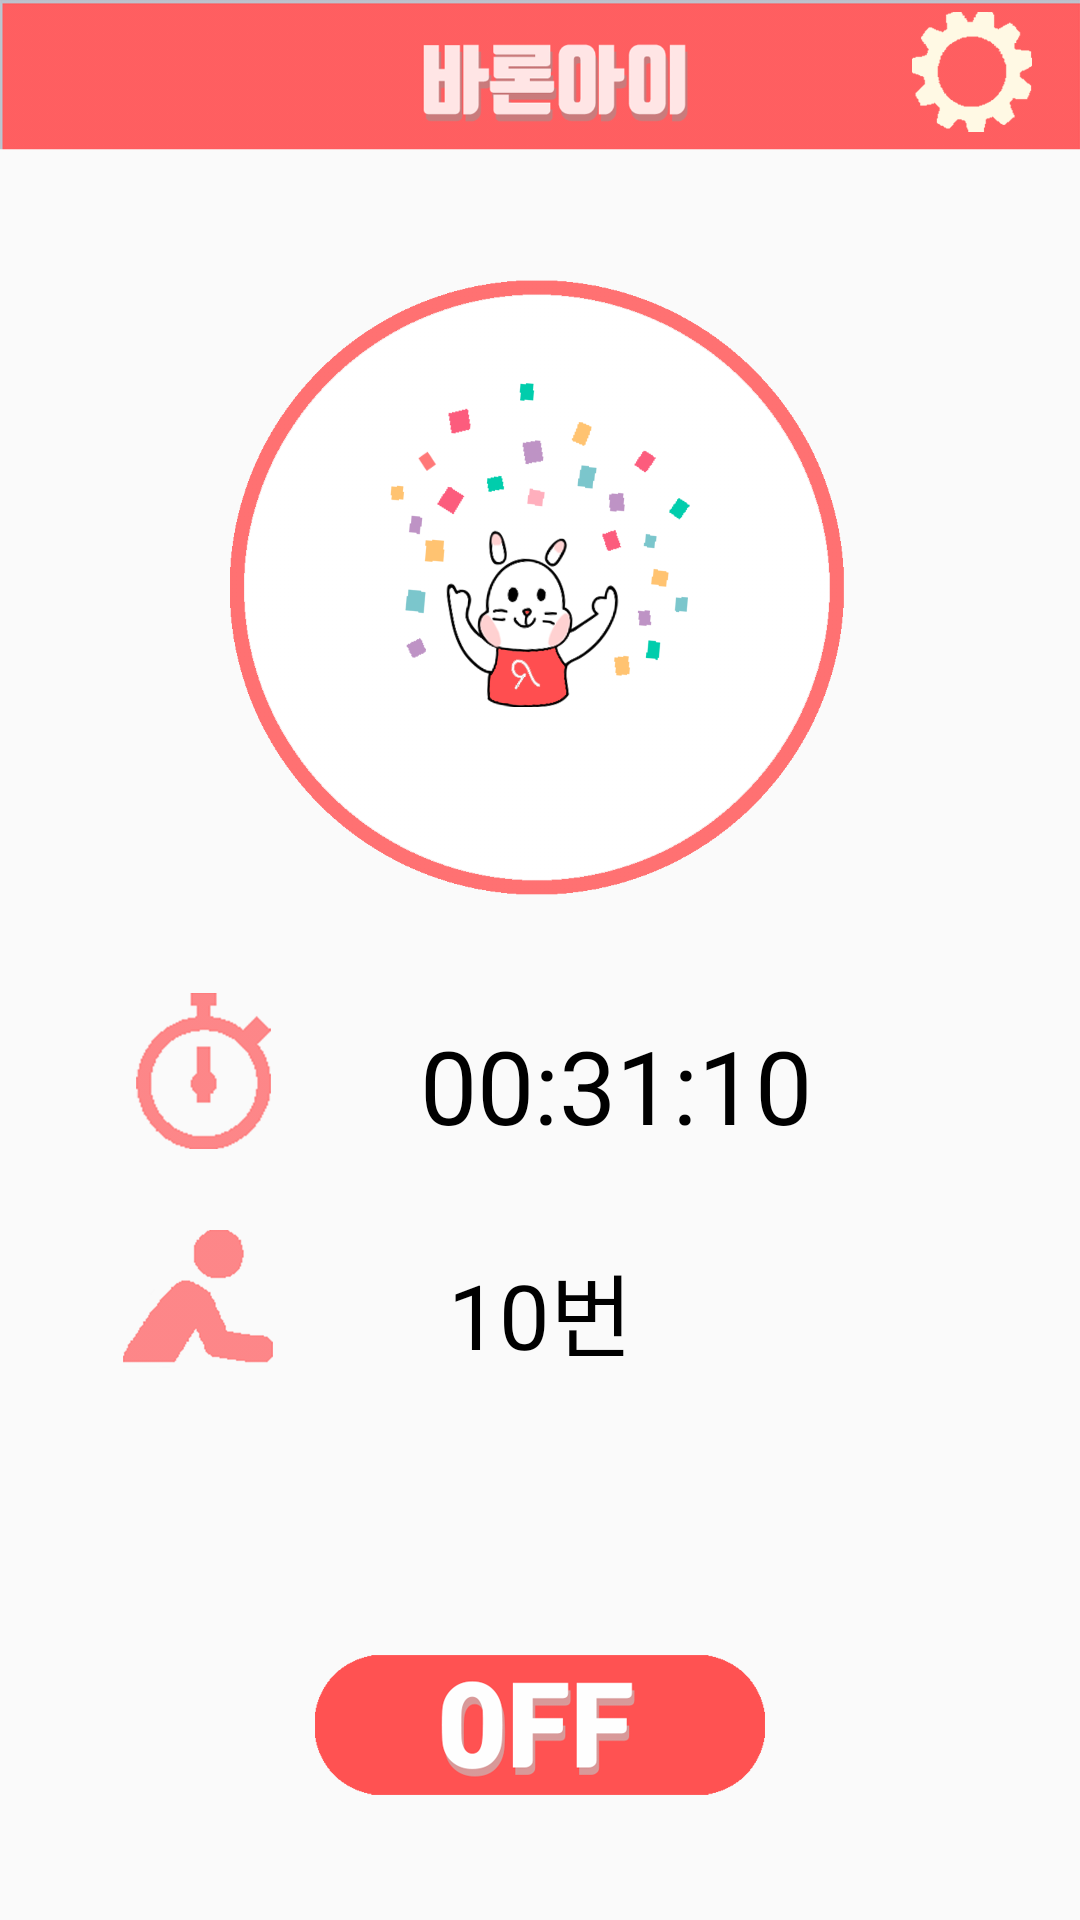

Icon bounding boxes for this 1080 x 1920 phone screenshot, format (x1, y1, x2, y2):
good: (390, 383, 690, 707)
manage: (912, 12, 1032, 132)
timer: (136, 993, 271, 1149)
